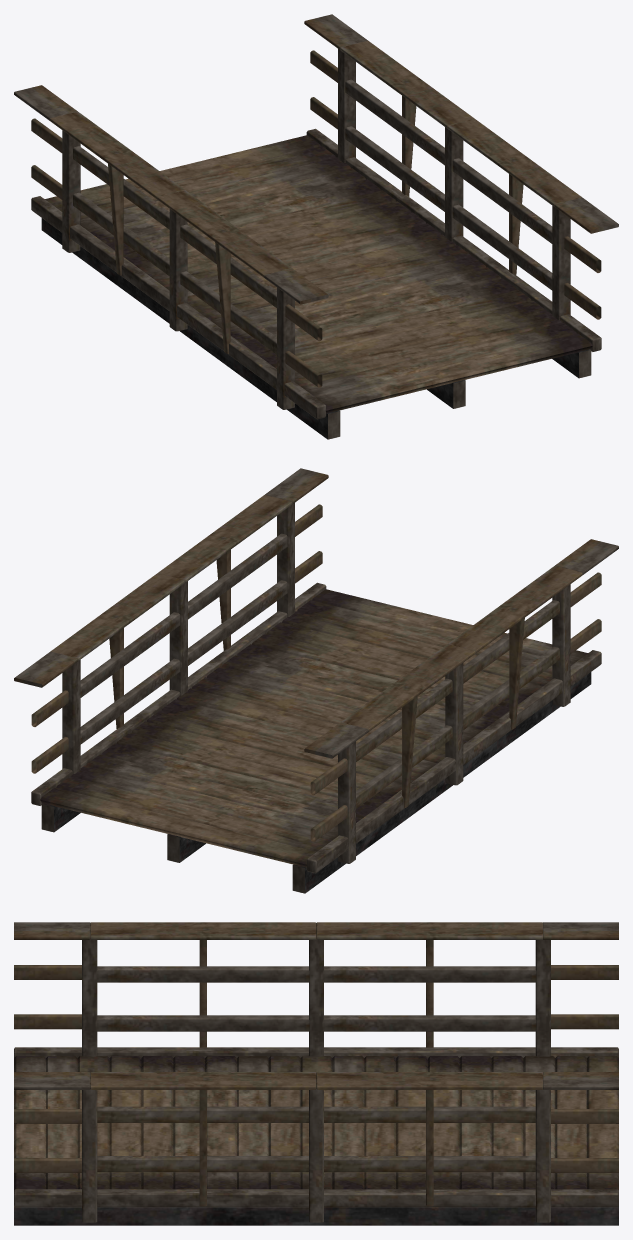
The model's file is Bridge_.fbx.
3 views of the same model, one above another, from view 1: azimuth 30°, elevation 25°; view 2: azimuth 150°, elevation 25°; view 3: azimuth 270°, elevation 25° (orthographic). The views are drawn at different scales.
Parts seen in each view (by area): view 1: Bridge:Bridge_0; view 2: Bridge:Bridge_0; view 3: Bridge:Bridge_0.
Part boxes in pixels (<box>): Bridge:Bridge_0: <box>14,14,618,439</box>; Bridge:Bridge_0: <box>14,468,618,893</box>; Bridge:Bridge_0: <box>14,922,618,1225</box>.
Bounding box in the file's own units: 2.57 × 1.12 × 4.
Materials: 1 (1 with a texture image).
